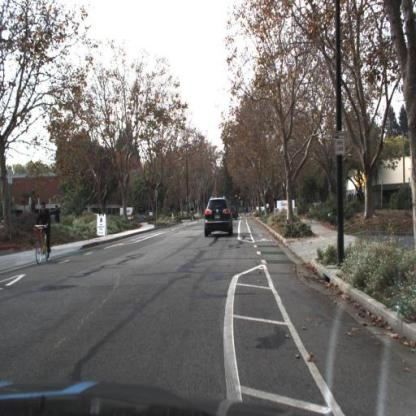biker: (35, 202, 53, 266), (191, 204, 196, 220)
car: (204, 194, 236, 239)
pedestrian: (55, 206, 62, 231), (131, 211, 135, 220)
